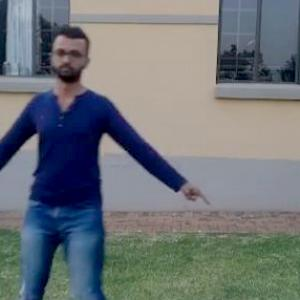land: (1, 39, 207, 299)
